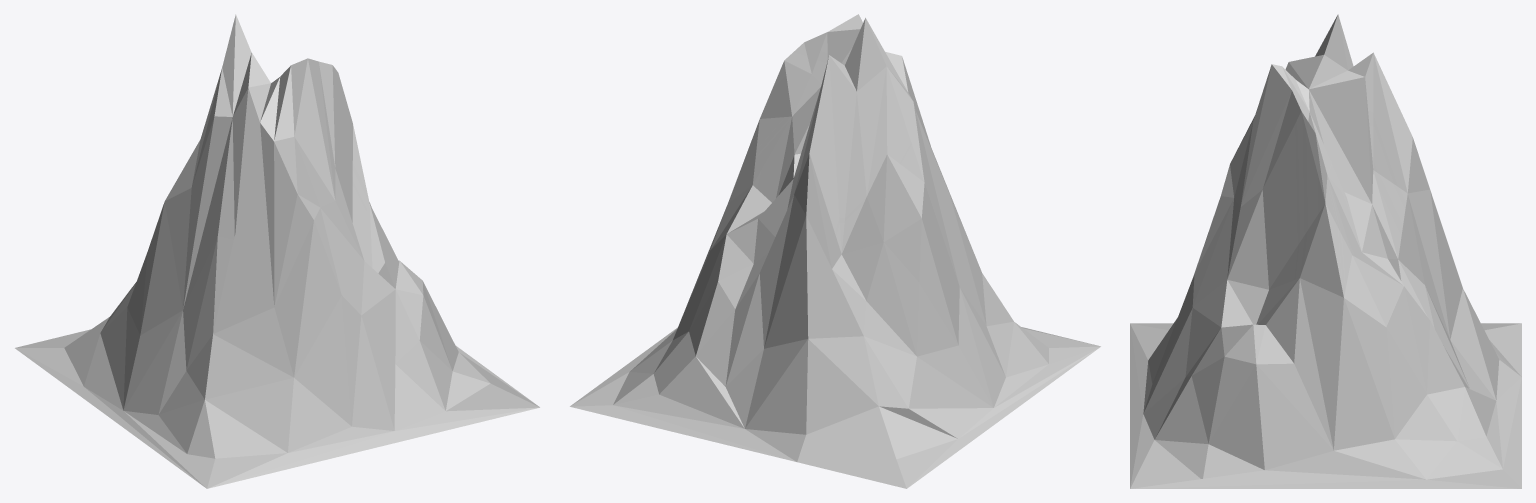
The model's file is mountain_snow_01.fbx.
3 views of the same model, side by side, from view 1: azimuth 30°, elevation 25°; view 2: azimuth 150°, elevation 25°; view 3: azimuth 270°, elevation 25° (orthographic).
Visible parts, largest first — view 1: rock, snow; view 2: rock, snow; view 3: rock, snow.
Part boxes in pixels (x1,y1,x2,y2): rock: (15, 88, 539, 488); snow: (192, 14, 369, 236); rock: (570, 57, 1100, 488); snow: (728, 14, 924, 253); rock: (1130, 116, 1521, 488); snow: (1240, 14, 1412, 296).
Bounding box in the file's own units: 3084 × 3253 × 3084.
